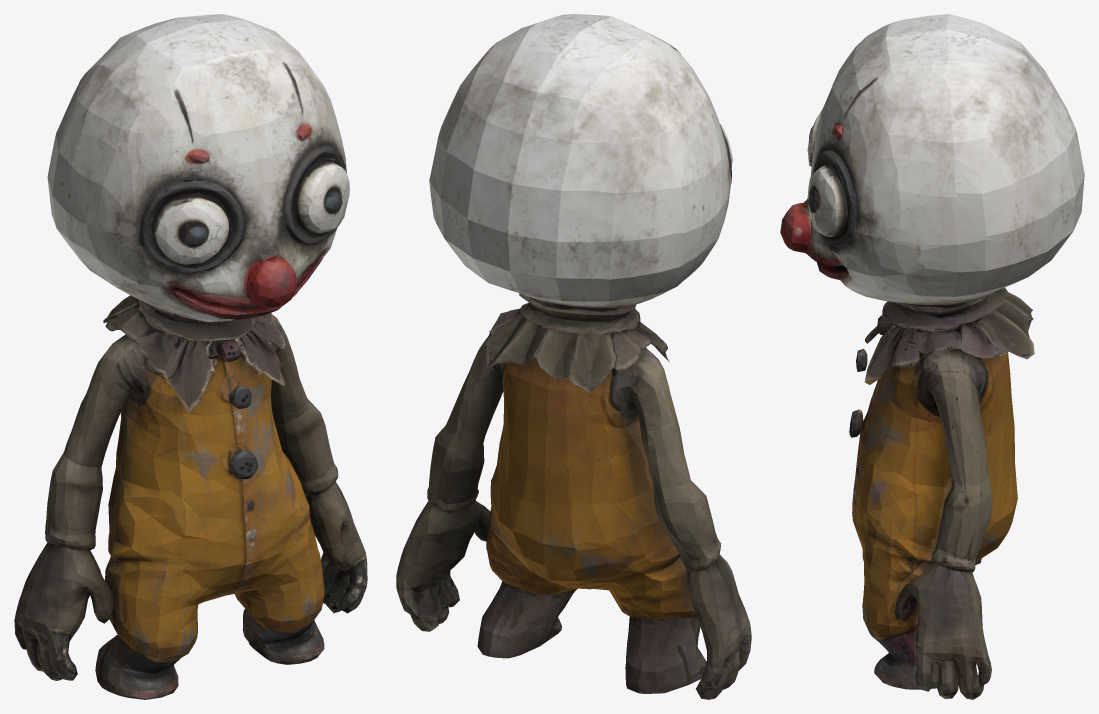
Rendered from Lil HARLEQUINN [No Rig].fbx.
3 views of the same model, side by side, from view 1: azimuth 30°, elevation 25°; view 2: azimuth 150°, elevation 25°; view 3: azimuth 270°, elevation 25° (orthographic). The views are drawn at different scales.
Visible parts, largest first — view 1: temp; view 2: temp; view 3: temp.
Part boxes in pixels (<box>): temp: <box>14,14,367,699</box>; temp: <box>396,14,751,699</box>; temp: <box>780,14,1084,699</box>.
Bounding box in the file's own units: 109 × 200 × 89.63.
1 material, 1 textured.
